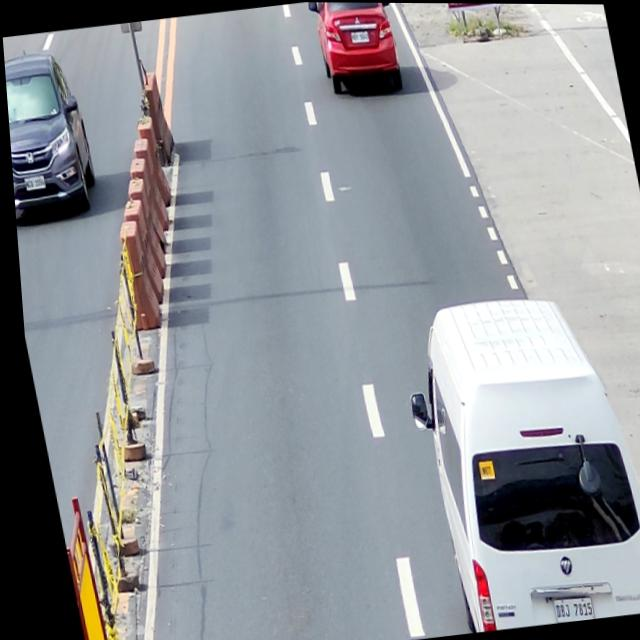Car: (385, 283, 640, 634), (3, 45, 99, 226), (307, 2, 406, 97)
License-Plate: (539, 589, 587, 623), (18, 173, 46, 196), (348, 27, 371, 48)
